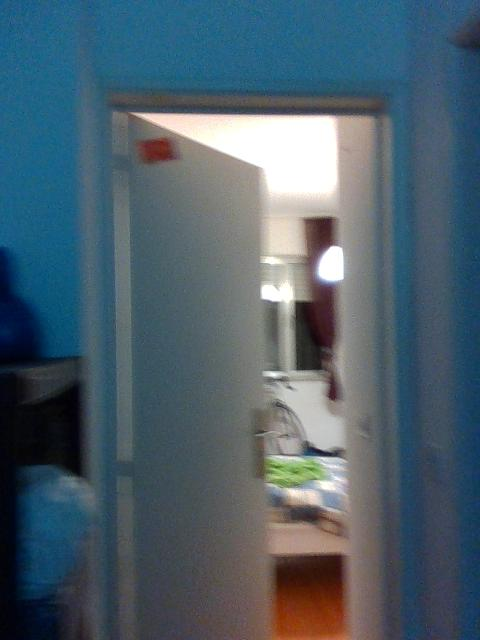semi_door: (101, 88, 409, 639)
